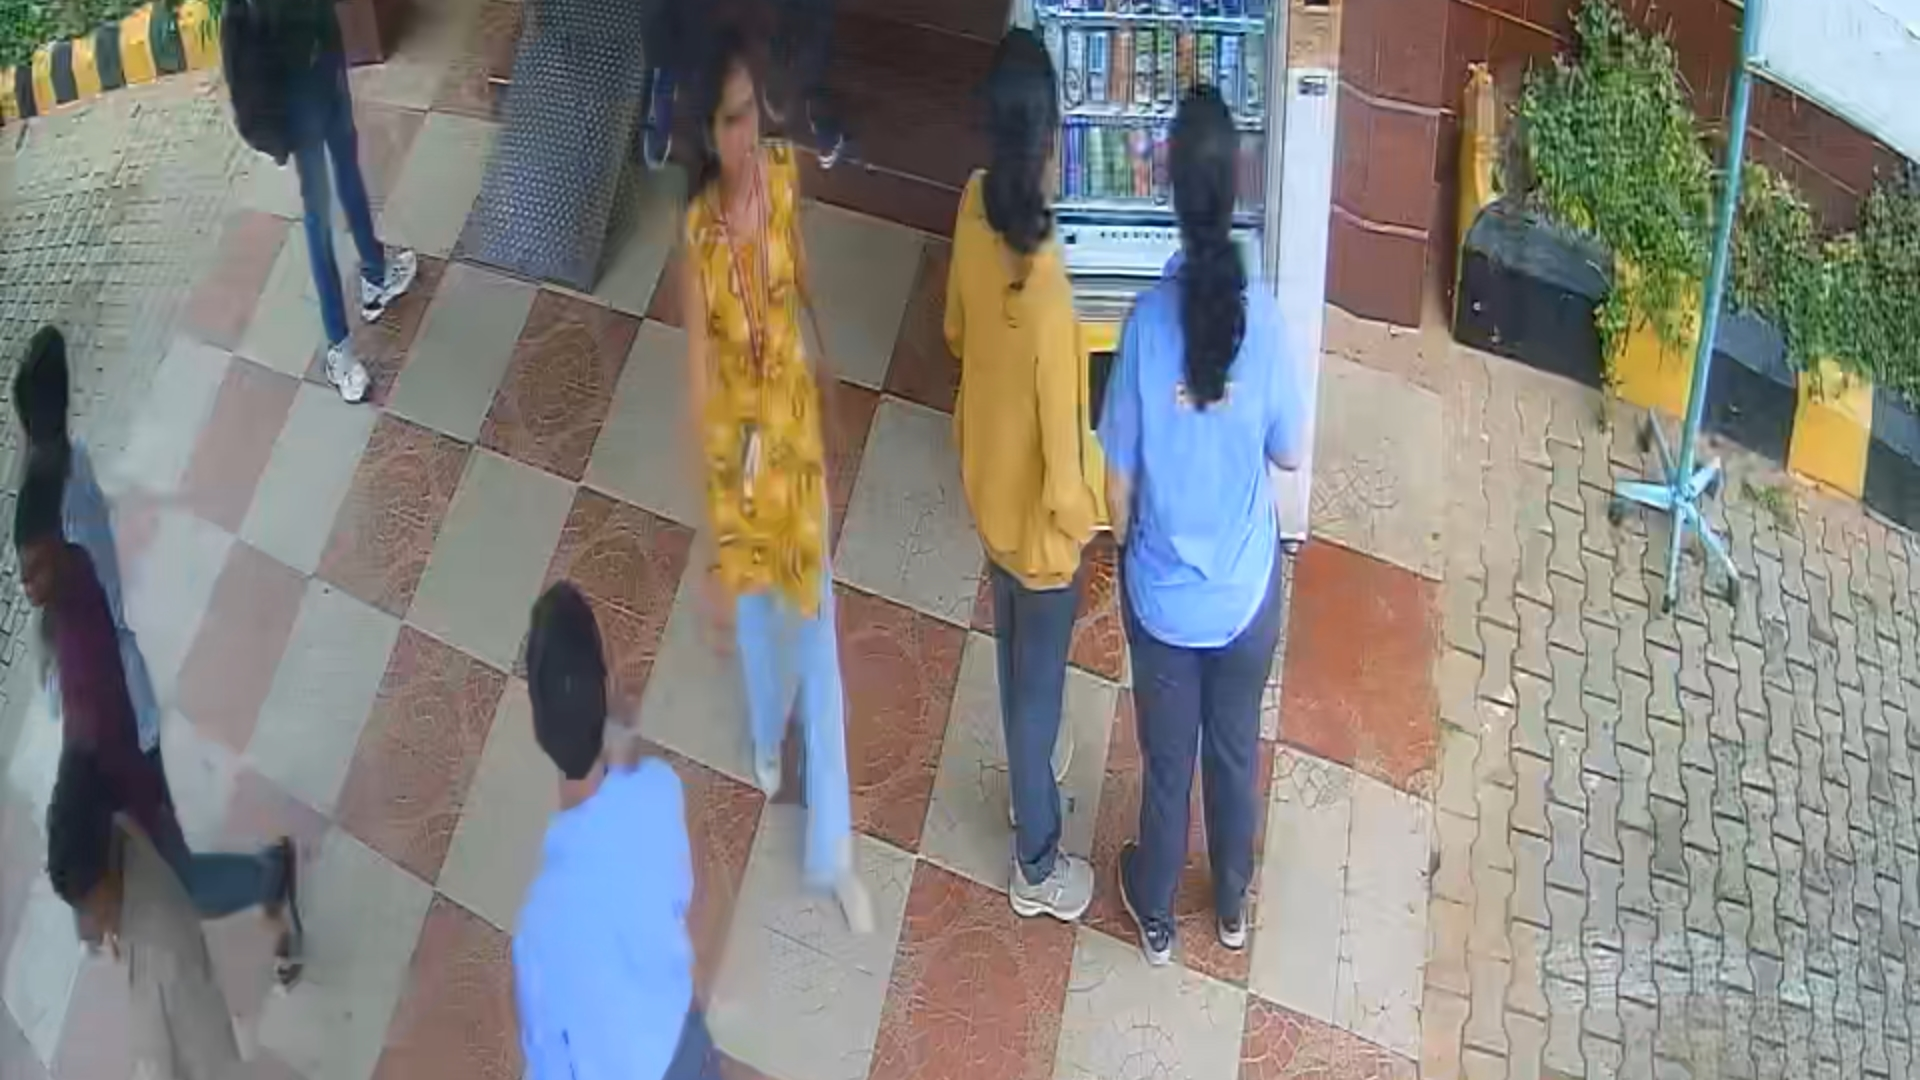not intruder: (670, 44, 911, 928)
